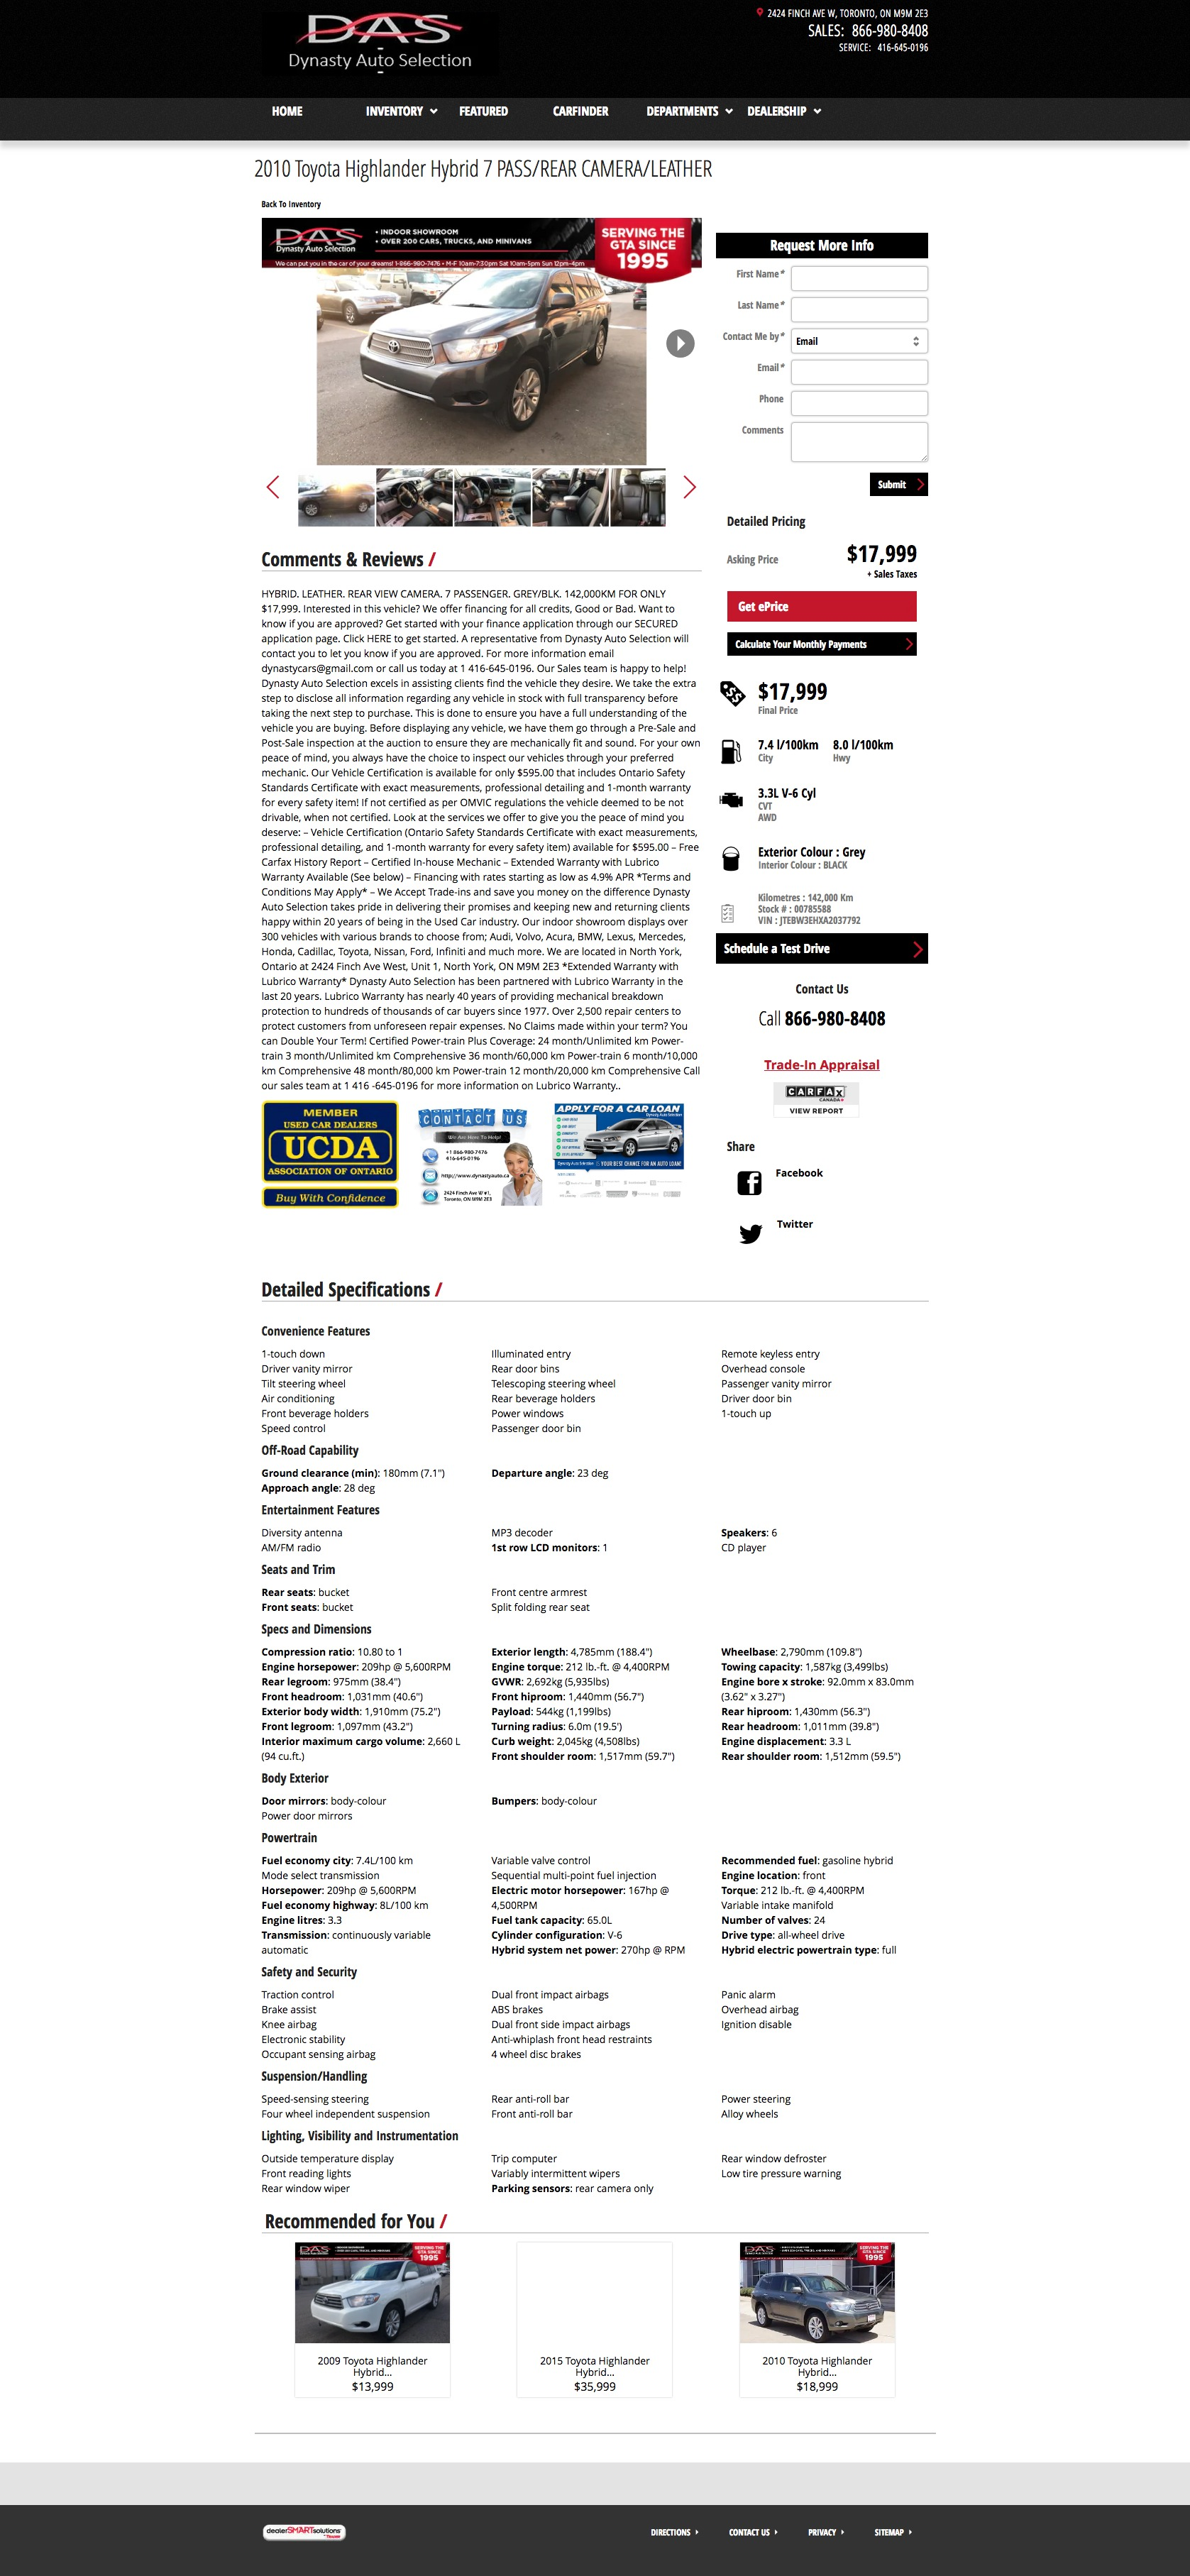car: (682, 476, 697, 499)
